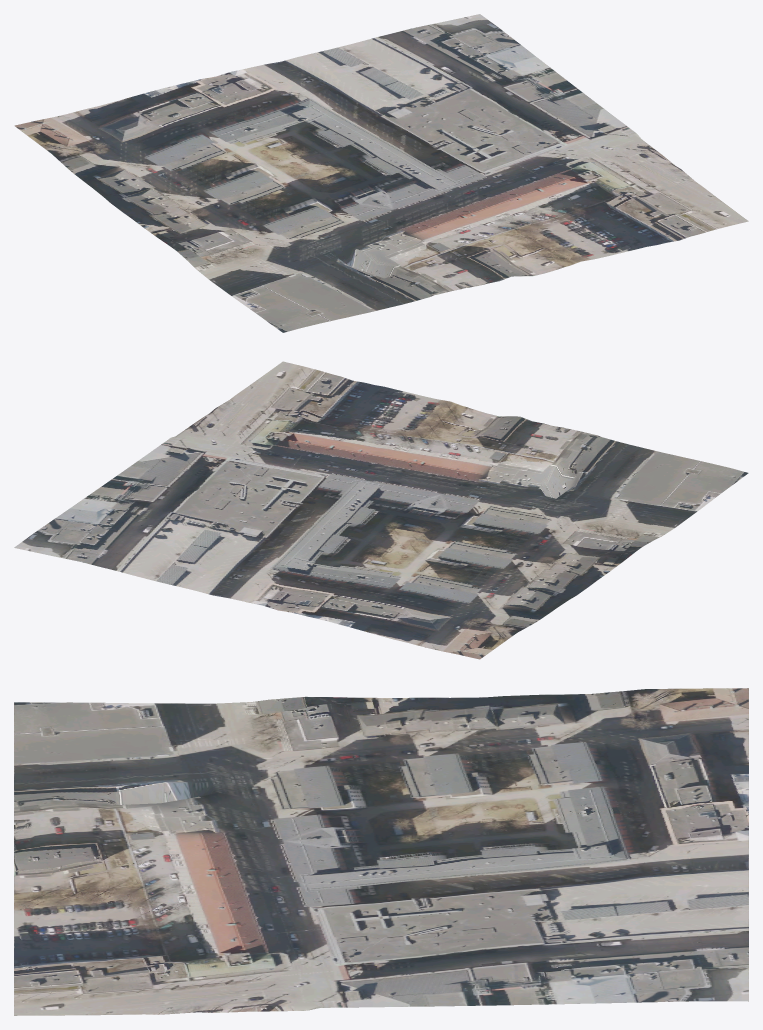
The model's file is CM_Terrain_24486978_6821227.fbx.
3 views of the same model, one above another, from view 1: azimuth 30°, elevation 25°; view 2: azimuth 150°, elevation 25°; view 3: azimuth 270°, elevation 25° (orthographic). The views are drawn at different scales.
Parts seen in each view (by area): view 1: CM_Terrain_24486978_6821227_LOD0; view 2: CM_Terrain_24486978_6821227_LOD0; view 3: CM_Terrain_24486978_6821227_LOD0.
Part boxes in pixels (x1,y1,x2,y2): CM_Terrain_24486978_6821227_LOD0: [14, 14, 748, 332]; CM_Terrain_24486978_6821227_LOD0: [14, 361, 748, 659]; CM_Terrain_24486978_6821227_LOD0: [14, 688, 748, 1015].
Size of what is drawn, in the model's own units: 205 by 15.61 by 205.
